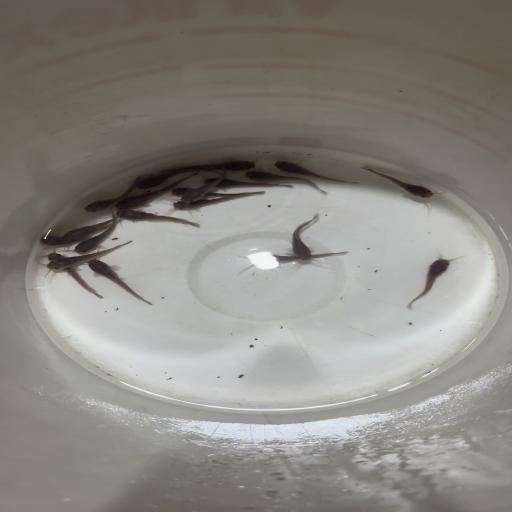lele: (402, 250, 466, 310), (114, 171, 200, 210), (86, 258, 154, 306), (359, 165, 440, 203), (232, 246, 350, 272), (43, 250, 104, 299), (270, 159, 360, 185), (82, 175, 142, 214), (240, 170, 330, 195), (178, 168, 228, 206), (134, 169, 224, 190), (115, 207, 201, 228), (288, 212, 322, 262), (170, 194, 255, 214), (157, 160, 256, 172), (202, 177, 294, 189), (171, 186, 249, 197)
